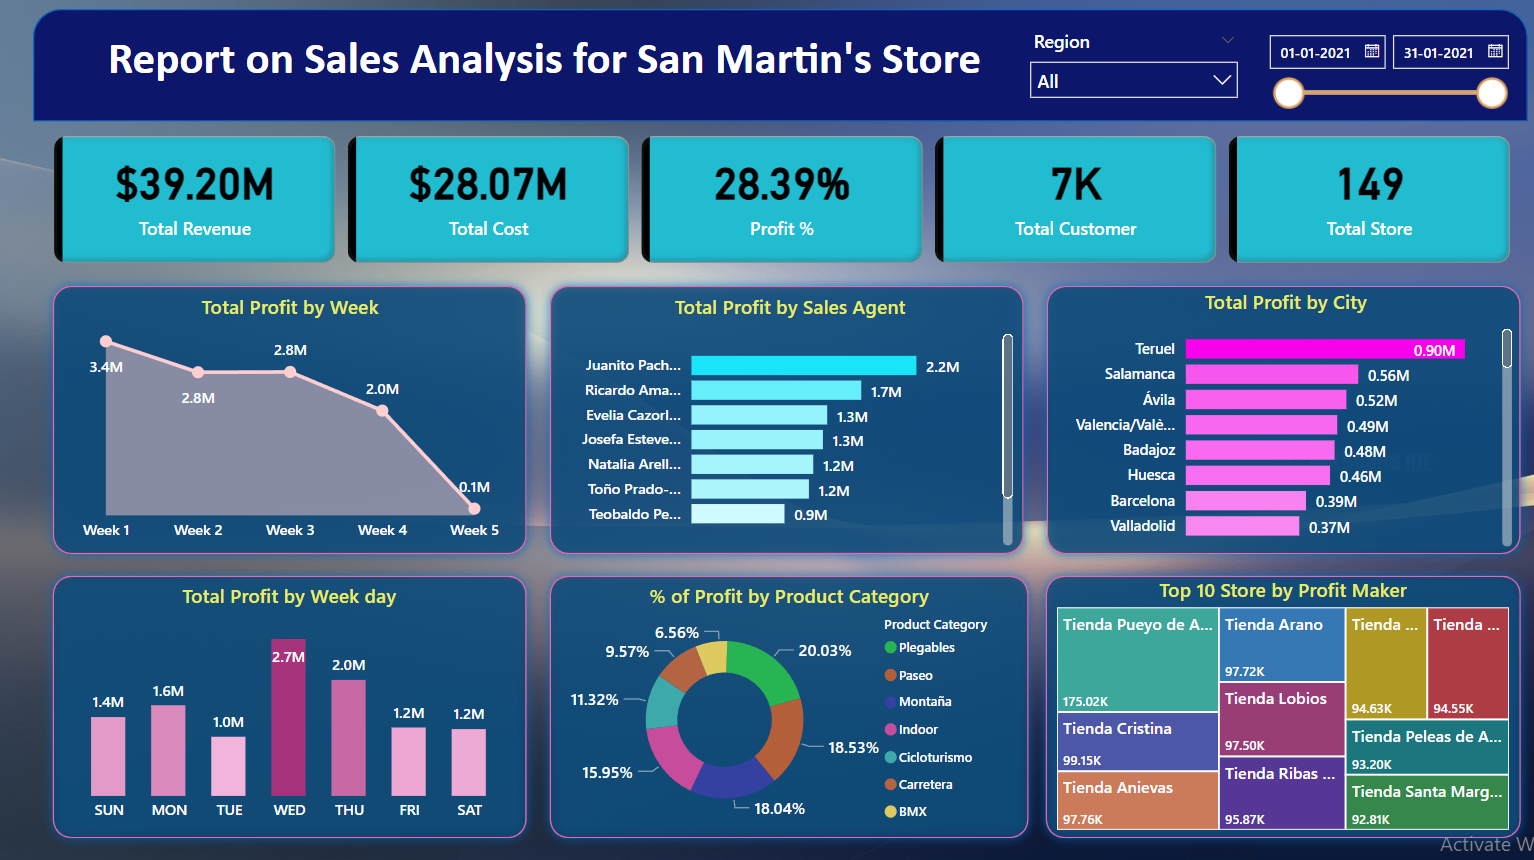

What the dashboard file says about the page in this screenshot:
{"tool":"powerbi","page":{"name":"Final Report","canvas":[1280,720],"ordinal":0},"visuals":[{"type":"shape","box":[860.5,230.9,410,239.7],"z":0},{"type":"shape","box":[449.1,230.9,410,240],"z":1000},{"type":"shape","box":[30.7,10.5,1237.2,93.1],"z":2000},{"type":"barChart","fields":{"Category":["Region.City"],"Y":["San Martins Stores Sales 2021.Total Profit"]},"box":[875.4,241.5,383.7,218.6],"z":3000},{"type":"slicer","fields":{"Values":["Region.Region"]},"box":[845.6,22,192.3,70.2],"z":4000},{"type":"shape","box":[37.8,470.6,410,235.3],"z":5000},{"type":"shape","box":[449.6,470.6,414.4,235.3],"z":6000},{"type":"donutChart","title":"% of Profit by Product Category","fields":{"Y":["San Martins Stores Sales 2021.Total Profit"],"Category":["Product.Product Category"]},"box":[466.2,484.7,381.1,207.2],"z":7000},{"type":"shape","box":[37.8,230.9,410,240],"z":8000},{"type":"shape","box":[859.6,470.6,410.9,235.3],"z":9000},{"type":"areaChart","title":"Total Profit by Week","fields":{"Y":["San Martins Stores Sales 2021.Total Profit"],"Category":["Week day.Week number(like week1, week2..)"]},"box":[55.3,245.9,375.8,214.2],"z":10000},{"type":"barChart","fields":{"Category":["Sales Agent.Sales Agent"],"Y":["San Martins Stores Sales 2021.Total Profit"]},"box":[468,245.9,377.6,214.2],"z":11000},{"type":"cardVisual","fields":{"Data":["San Martins Stores Sales 2021.Total Revenue","San Martins Stores Sales 2021.Total Cost","San Martins Stores Sales 2021.Profit %","Customer.Total Customer","Store.Total Store"]},"box":[43,110.6,1216.1,115.9],"z":12000},{"type":"textbox","box":[30.7,22,846.4,63.2],"z":13000},{"type":"columnChart","title":"Total Profit by Week day","fields":{"Category":["Week day.Order Day"],"Y":["San Martins Stores Sales 2021.Total Profit"]},"box":[53.6,484.7,377.6,207.2],"z":14000},{"type":"slicer","fields":{"Values":["Week day.Order Date"]},"box":[1041.4,22,217.8,81.7],"z":15000},{"type":"treemap","title":"Top 10 Store  by Profit Maker ","fields":{"Group":["Store.Store Name"],"Values":["San Martins Stores Sales 2021.Total Profit"]},"box":[872.8,480.1,383.9,214.8],"z":16000}]}

Visuals, with their boxes in screenshot pixels (x1, y1, x2, y2), scaled from the page's 1280x720 canvas onto the 1534x860 screenshot:
shape: select_region(1031, 276, 1523, 562)
shape: select_region(538, 276, 1030, 562)
shape: select_region(37, 13, 1519, 124)
barChart - Region.City x San Martins Stores Sales 2021.Total Profit: select_region(1049, 288, 1509, 550)
slicer - Region.Region: select_region(1013, 26, 1244, 110)
shape: select_region(45, 562, 537, 843)
shape: select_region(539, 562, 1035, 843)
"% of Profit by Product Category" donutChart: select_region(559, 579, 1015, 826)
shape: select_region(45, 276, 537, 562)
shape: select_region(1030, 562, 1523, 843)
"Total Profit by Week" areaChart: select_region(66, 294, 517, 550)
barChart - Sales Agent.Sales Agent x San Martins Stores Sales 2021.Total Profit: select_region(561, 294, 1013, 550)
cardVisual - San Martins Stores Sales 2021.Total Revenue x San Martins Stores Sales 2021.Total Cost: select_region(52, 132, 1509, 271)
textbox: select_region(37, 26, 1051, 102)
"Total Profit by Week day" columnChart: select_region(64, 579, 517, 826)
slicer - Week day.Order Date: select_region(1248, 26, 1509, 124)
"Top 10 Store  by Profit Maker " treemap: select_region(1046, 573, 1506, 830)
